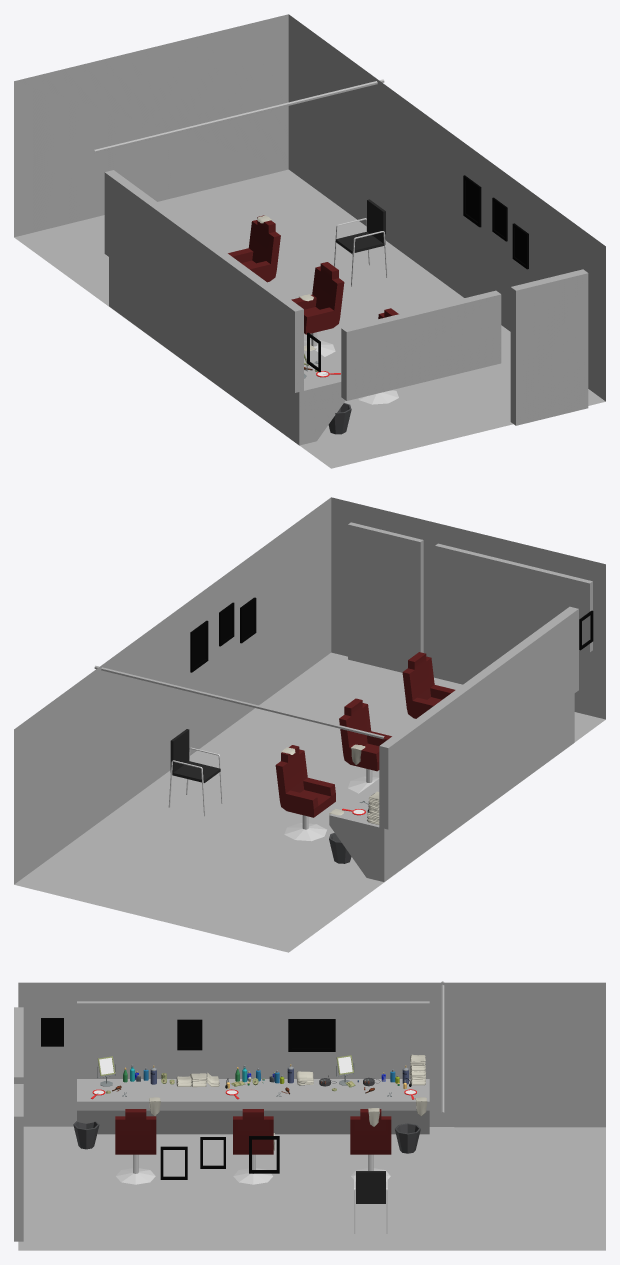
File: Salon_OLD.glb
3 renders of one model, top to bottom at view 1: azimuth 30°, elevation 25°; view 2: azimuth 150°, elevation 25°; view 3: azimuth 270°, elevation 25°, orthographic. The views are drawn at different scales.
Parts seen in each view (by area): view 1: salon polySurface16, salon polySurface15, salon polySurface2, polySurface18 salon, salon polySurface17, salon polySurface11, salon polySurface9, salon polySurface3, salon polySurface14, pictureFrame2, pictureFrame1; view 2: salon polySurface16, salon polySurface15, salon polySurface2, salon polySurface17, polySurface18 salon, salon polySurface9, salon polySurface11, salon polySurface13, salon polySurface3, salon polySurface14, pictureFrame2, salon polySurface8 (+1 smaller); view 3: salon polySurface16, salon polySurface15, salon polySurface2, salon polySurface13, salon polySurface9, salon polySurface11, pictureFrame5, salon polySurface17, salon polySurface3, pictureFrame3, polySurface18 salon, pictureFrame6 (+7 smaller).
Part boxes in pixels (box(x1,y1,x2,y2)): salon polySurface16: box(14, 14, 605, 468); salon polySurface15: box(104, 170, 303, 392); salon polySurface2: box(109, 257, 345, 445); polySurface18 salon: box(341, 290, 501, 400); salon polySurface17: box(510, 269, 588, 425); salon polySurface11: box(291, 262, 344, 334); salon polySurface9: box(228, 215, 280, 282); salon polySurface3: box(335, 199, 385, 253); salon polySurface14: box(94, 79, 384, 152); pictureFrame2: box(463, 175, 481, 227); pictureFrame1: box(512, 223, 528, 269); salon polySurface16: box(14, 497, 605, 952); salon polySurface15: box(379, 606, 578, 829); salon polySurface2: box(329, 693, 574, 881); salon polySurface17: box(348, 522, 423, 672); polySurface18 salon: box(435, 543, 592, 652); salon polySurface9: box(275, 745, 335, 817); salon polySurface11: box(339, 698, 391, 771); salon polySurface13: box(402, 652, 455, 718); salon polySurface3: box(170, 729, 220, 782); salon polySurface14: box(94, 665, 384, 739); pictureFrame2: box(190, 620, 208, 672); salon polySurface8: box(284, 815, 326, 841); salon polySurface16: box(18, 982, 605, 1250); salon polySurface15: box(77, 1001, 429, 1078); salon polySurface2: box(77, 1079, 429, 1134); salon polySurface13: box(115, 1109, 156, 1154); salon polySurface9: box(350, 1109, 391, 1154); salon polySurface11: box(233, 1109, 273, 1154); pictureFrame5: box(288, 1019, 335, 1051); salon polySurface17: box(14, 1084, 23, 1241); salon polySurface3: box(356, 1171, 385, 1203); pictureFrame3: box(177, 1019, 202, 1050); polySurface18 salon: box(14, 1007, 23, 1083); pictureFrame6: box(41, 1018, 63, 1046).
Size of the model in its own units: 526 by 272 by 1007.
Materials: 11 (1 with a texture image).
